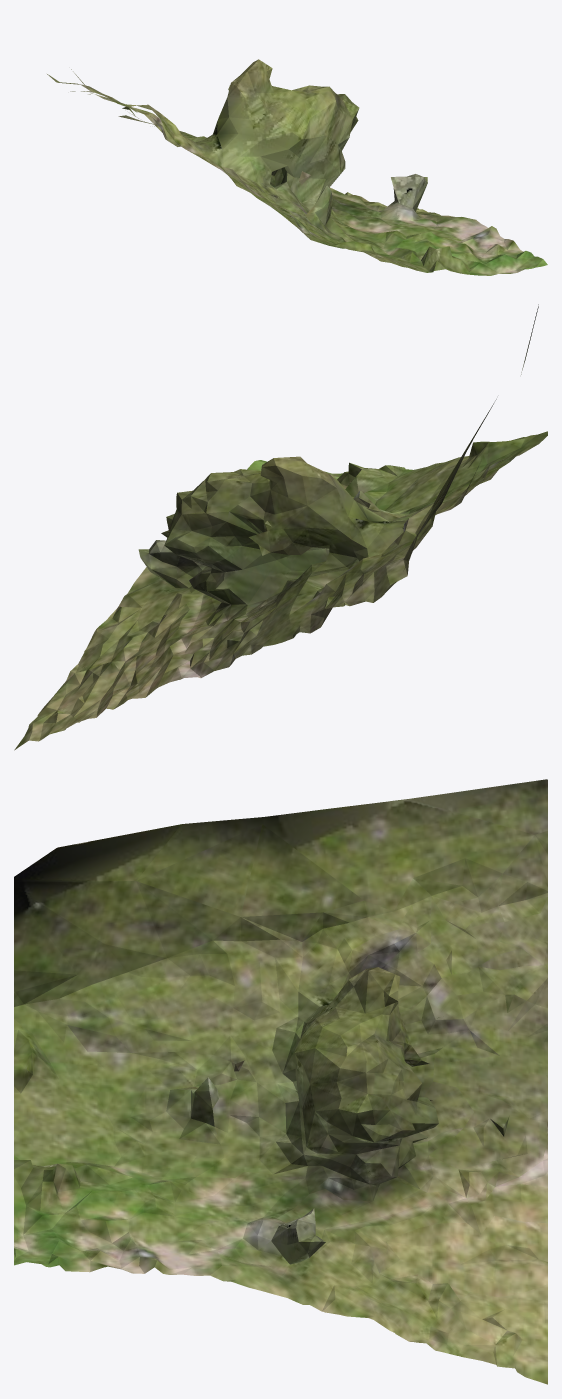
The picture shows the model from 3 angles, top to bottom: view 1: azimuth 30°, elevation 25°; view 2: azimuth 150°, elevation 25°; view 3: azimuth 270°, elevation 25°; orthographic projection. The views are drawn at different scales.
Size of the model in its own units: 26.11 by 20.49 by 26.11.
Materials: 3 (3 with a texture image).
